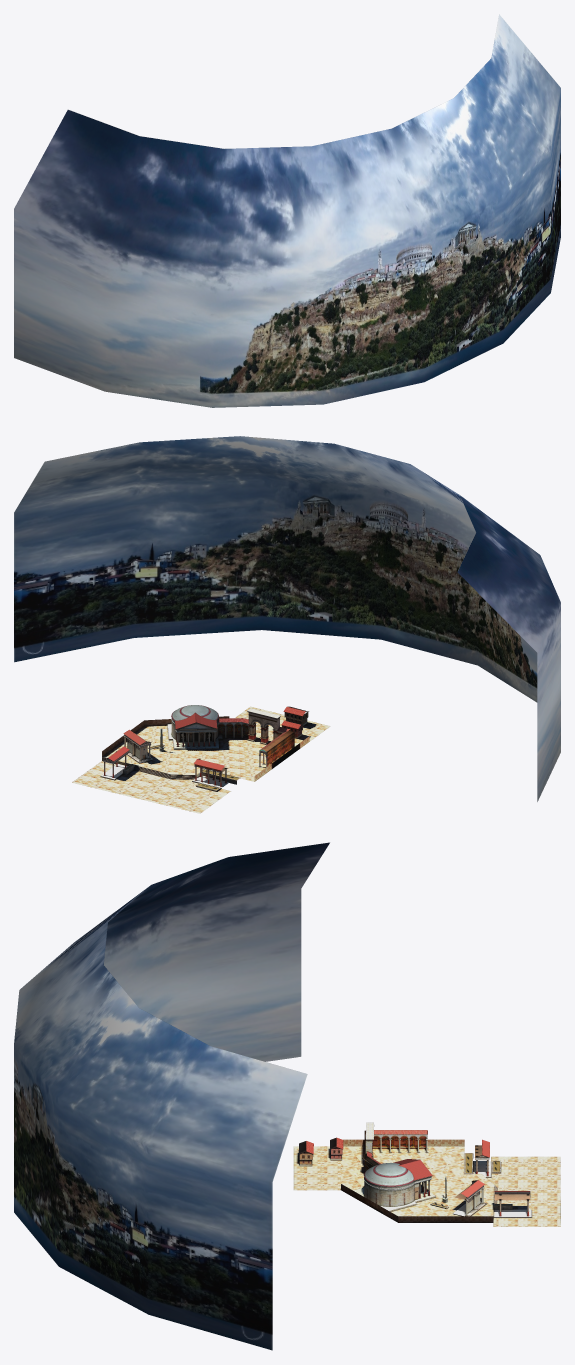
The model's file is Rome.obj.
The picture shows the model from 3 angles, top to bottom: view 1: azimuth 30°, elevation 25°; view 2: azimuth 150°, elevation 25°; view 3: azimuth 270°, elevation 25°; orthographic projection. The views are drawn at different scales.
Visible parts, largest first — view 1: Cylinder002; view 2: Cylinder002, hor_floor, vertical_floor, big_build_cil, arch, right_geder, build_right, left_build2, geder_left, domiki, build_left, gorshki; view 3: Cylinder002, hor_floor, big_build_cil, right_geder, walls, build_left, left_build2, domiki.
Boxes of the visible parts, x1,y1,x2,y2 form: Cylinder002: [14, 14, 560, 407]; Cylinder002: [14, 436, 560, 801]; hor_floor: [72, 706, 330, 813]; vertical_floor: [102, 723, 222, 779]; big_build_cil: [171, 705, 218, 729]; arch: [247, 708, 280, 744]; right_geder: [259, 727, 294, 767]; build_right: [192, 758, 229, 788]; left_build2: [123, 729, 153, 763]; geder_left: [217, 718, 248, 738]; domiki: [281, 706, 308, 738]; build_left: [100, 746, 129, 780]; gorshki: [123, 744, 240, 791]; Cylinder002: [14, 842, 329, 1350]; hor_floor: [293, 1139, 560, 1226]; big_build_cil: [364, 1159, 432, 1186]; right_geder: [364, 1130, 427, 1152]; walls: [364, 1177, 418, 1206]; build_left: [493, 1191, 531, 1217]; left_build2: [453, 1180, 487, 1216]; domiki: [298, 1137, 343, 1166].
Bounding box in the file's own units: 1375 × 548 × 1082.
Materials: 18 (16 with a texture image).
